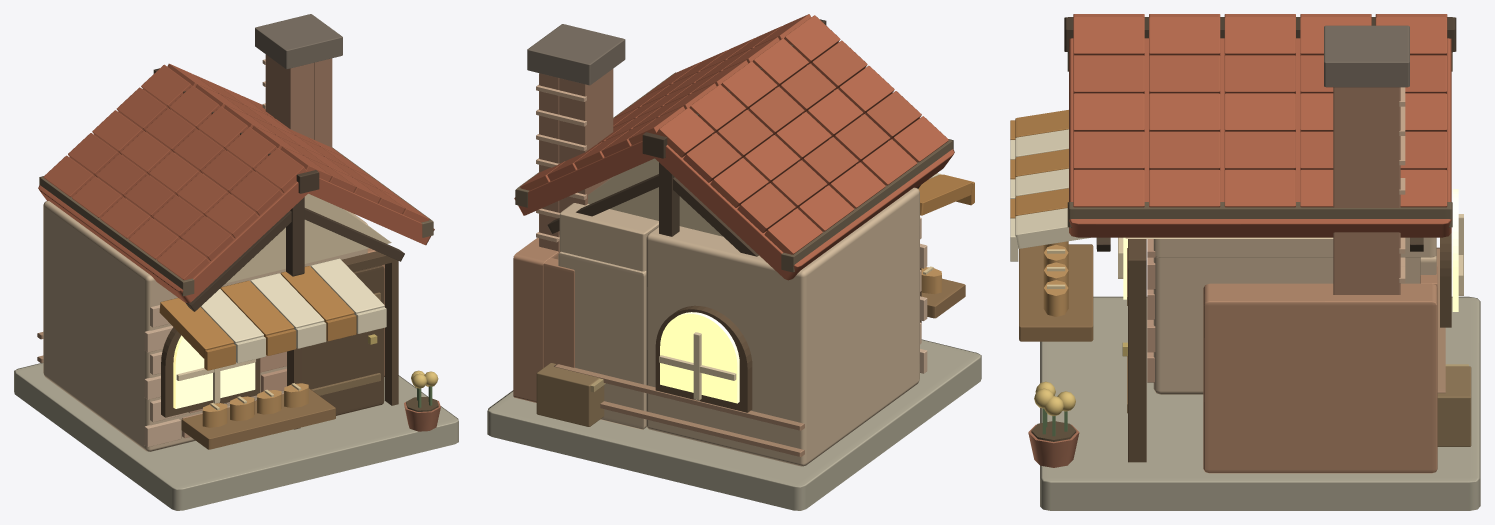
Rendered from bakery-0.glb.
3 views of the same model, side by side, from view 1: azimuth 30°, elevation 25°; view 2: azimuth 150°, elevation 25°; view 3: azimuth 270°, elevation 25° (orthographic). The views are drawn at different scales.
Visible parts, largest first — view 1: bakery-0-0, door-hinge; view 2: bakery-0-0; view 3: bakery-0-0.
Part boxes in pixels (x1,y1,x2,y2): bakery-0-0: [14, 14, 458, 510]; door-hinge: [300, 265, 384, 415]; bakery-0-0: [487, 14, 981, 510]; bakery-0-0: [1010, 14, 1480, 510].
Bounding box in the file's own units: 1.9 × 2.1 × 2.03.
